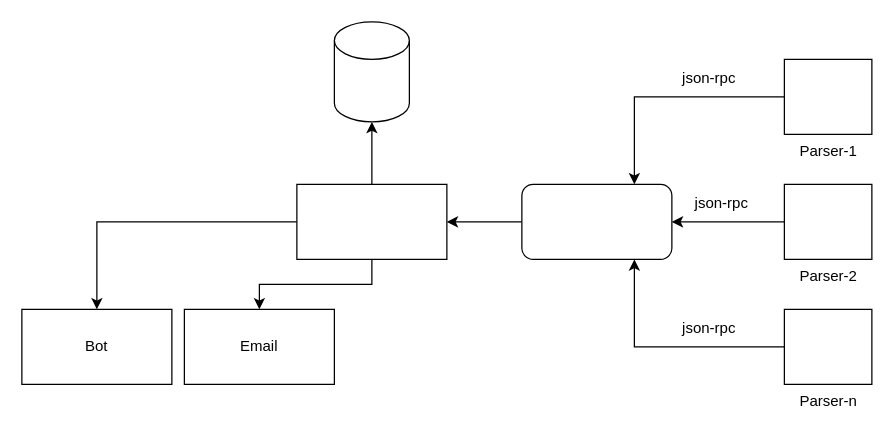
This 894x433 diagram has some shape labels left out. The centre of each missing label's shape, as x and y in pixels:
"NotifyManager" belongs at point 371,221.
"Parsing-processor" belongs at point 596,221.
